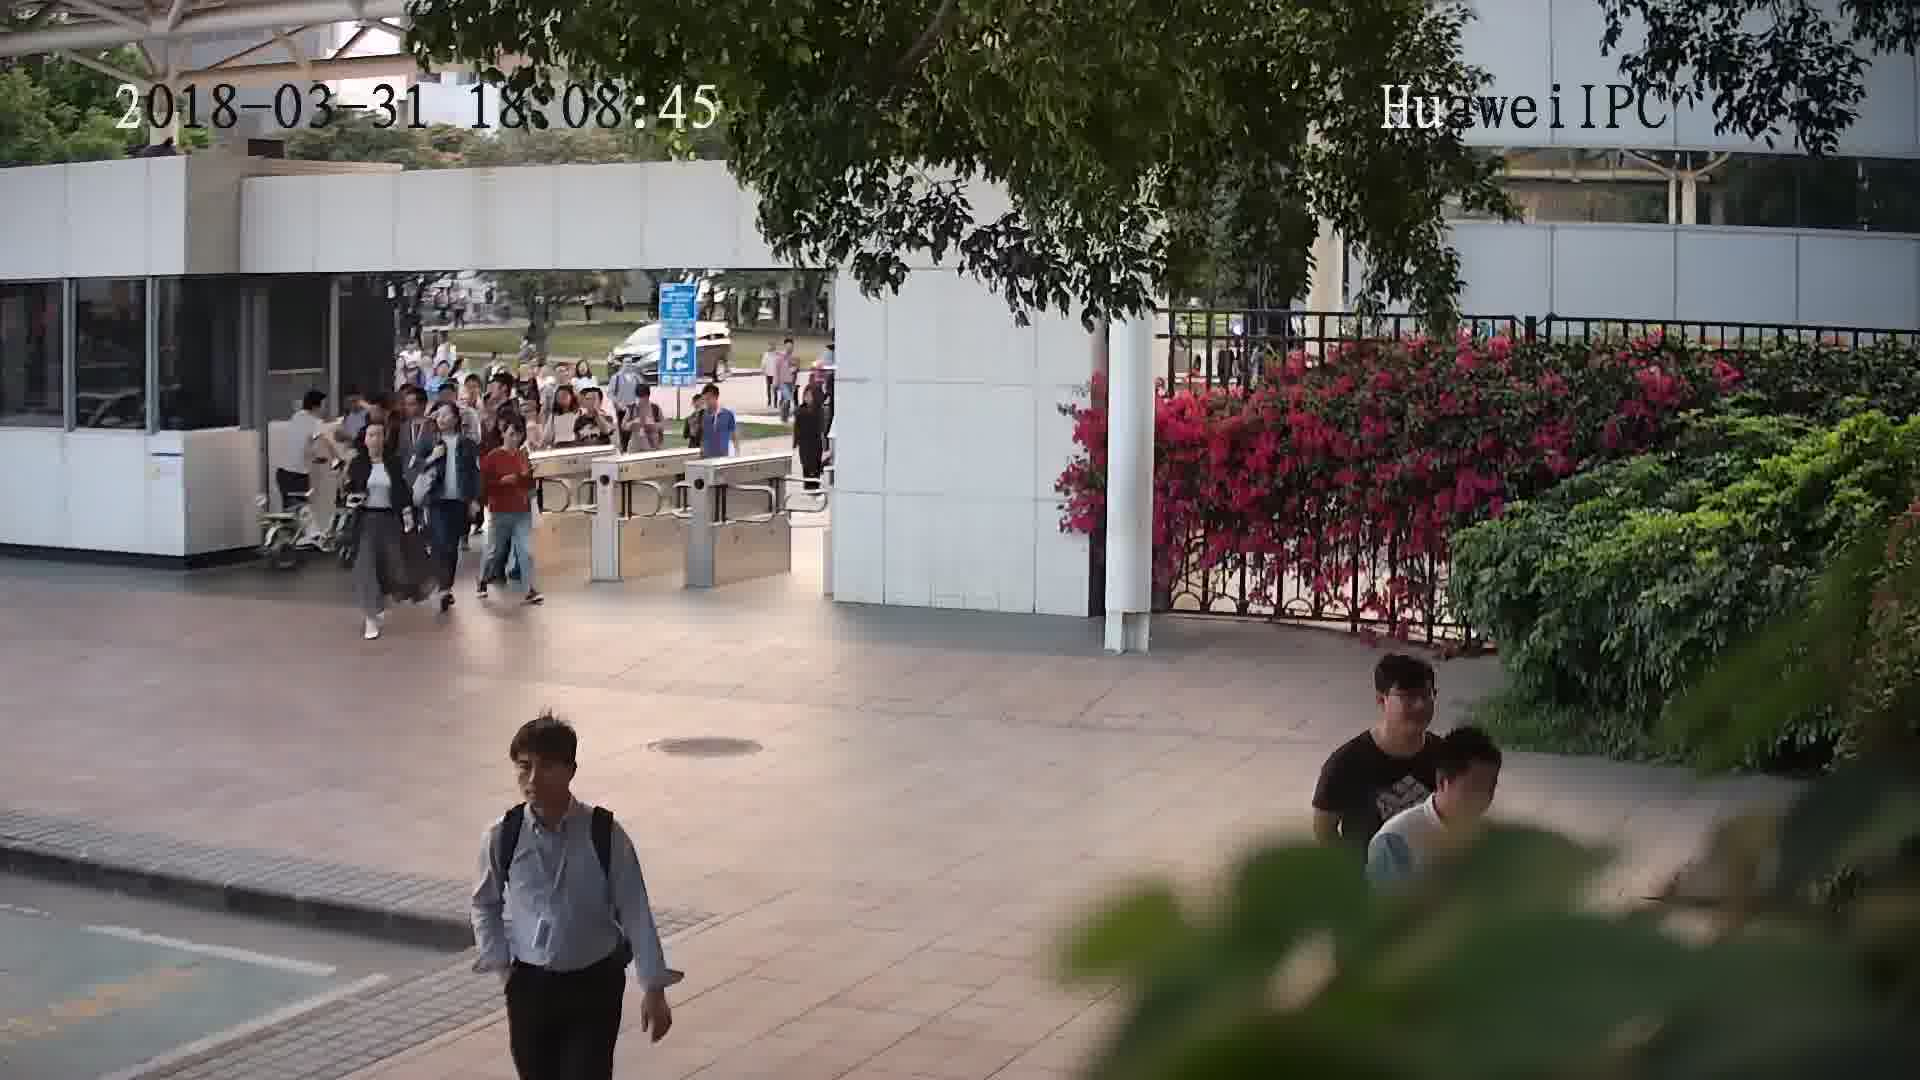face: (509, 748, 572, 810), (1381, 673, 1443, 735)
person: (1372, 726, 1509, 873), (483, 717, 627, 846), (1325, 651, 1451, 779), (348, 421, 397, 477), (419, 401, 472, 452), (392, 384, 442, 438), (483, 416, 531, 468), (279, 386, 327, 435), (692, 380, 739, 424), (483, 373, 528, 418), (574, 384, 615, 425), (624, 380, 666, 417), (547, 379, 582, 423), (608, 352, 646, 386), (570, 355, 602, 387), (425, 357, 459, 386), (776, 335, 804, 362)
